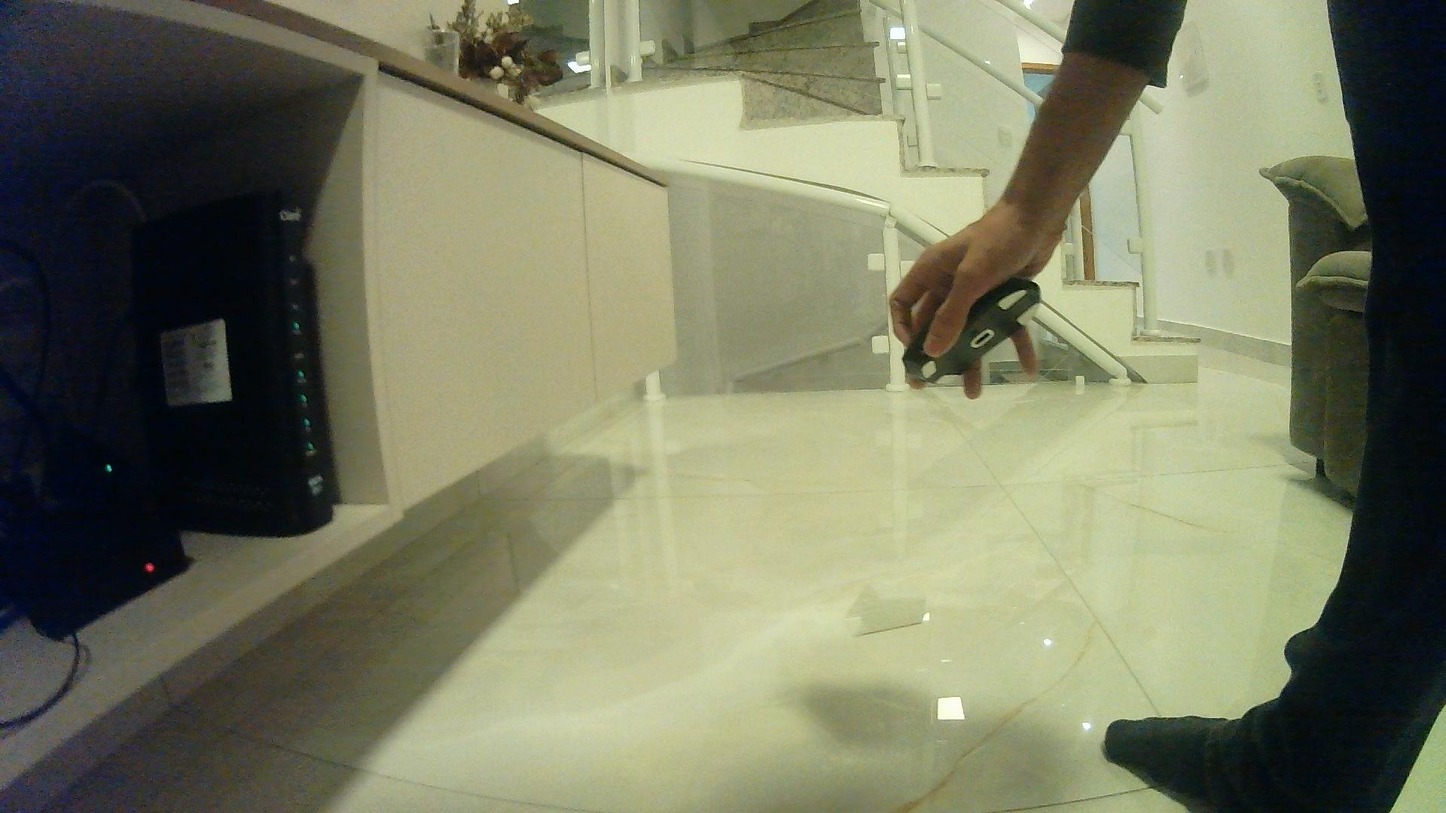erva_daninha: (834, 574, 938, 641)
